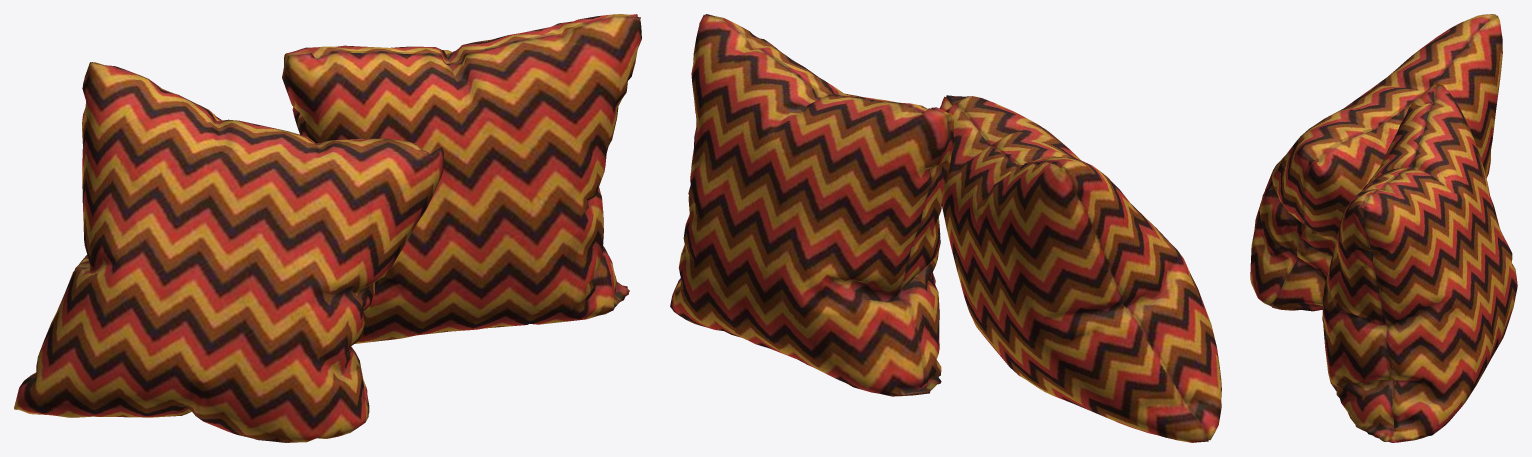
The model's file is throw_pillows_01_lite.gltf.
3 renders of one model, left to right at view 1: azimuth 30°, elevation 25°; view 2: azimuth 150°, elevation 25°; view 3: azimuth 270°, elevation 25°, orthographic. The views are drawn at different scales.
Visible parts, largest first — view 1: throw_pillows_01_pillow01, throw_pillows_01_pillow02; view 2: throw_pillows_01_pillow02, throw_pillows_01_pillow01; view 3: throw_pillows_01_pillow02, throw_pillows_01_pillow01.
Part boxes in pixels (x1,y1,x2,y2): throw_pillows_01_pillow01: [14, 62, 443, 442]; throw_pillows_01_pillow02: [282, 14, 641, 343]; throw_pillows_01_pillow02: [670, 14, 953, 396]; throw_pillows_01_pillow01: [939, 95, 1221, 442]; throw_pillows_01_pillow02: [1322, 84, 1517, 442]; throw_pillows_01_pillow01: [1250, 14, 1502, 311].
Bounding box in the file's own units: 0.9401 × 0.4502 × 0.4519.
Materials: 1 (1 with a texture image).
